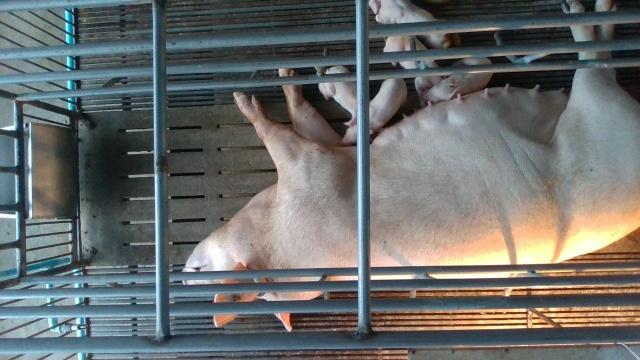piglet: (338, 78, 407, 146), (369, 1, 461, 49), (384, 37, 445, 108), (420, 58, 493, 103), (319, 65, 356, 126)
sow-sleep-lactate: (181, 0, 640, 331)
